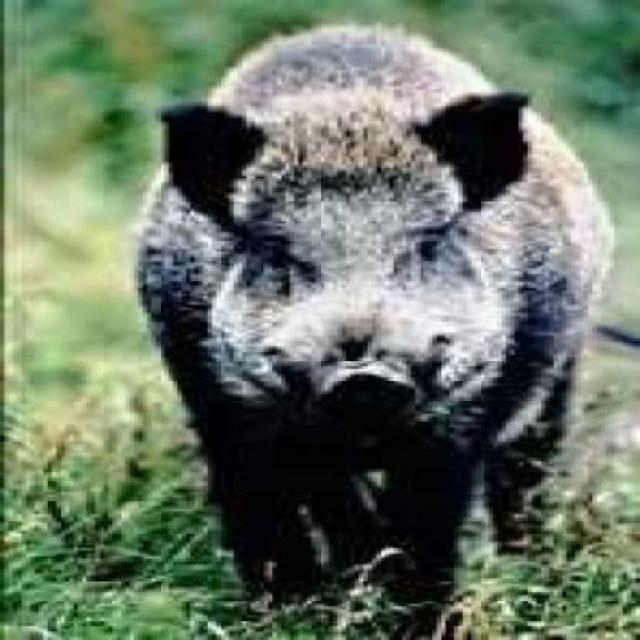pig: (126, 24, 638, 640)
